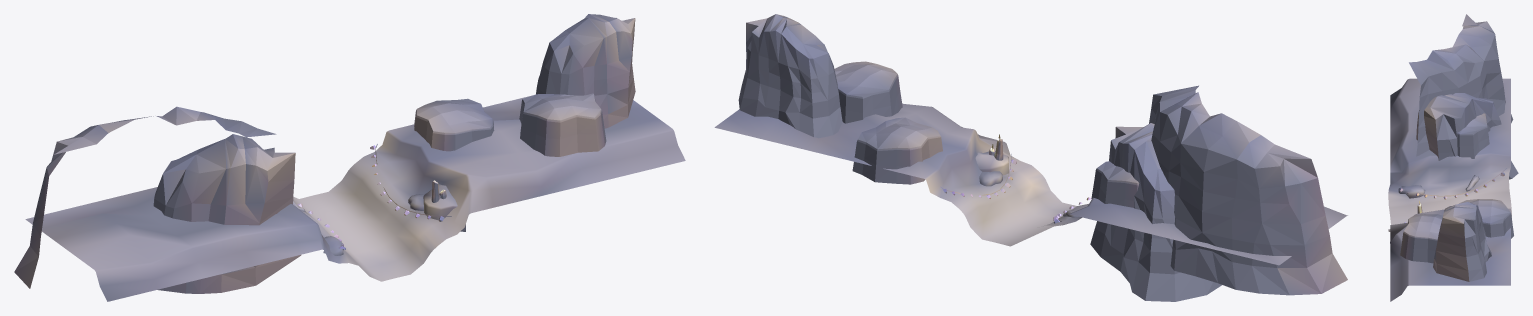
The model's file is Arctic_Luge_Straight_A.glb.
3 renders of one model, left to right at view 1: azimuth 30°, elevation 25°; view 2: azimuth 150°, elevation 25°; view 3: azimuth 270°, elevation 25°, orthographic. The views are drawn at different scales.
Visible parts, largest first — view 1: Arctic_Luge_Straight_A, Arctic_Luge_LargeIceRock_prop, Arctic_Luge_LargeIceRock_prop (1), Arctic_Luge_SmallIceRock_prop (2), Arctic_Luge_IceWall_prop, Arctic_Luge_SmallIceRock_prop (1); view 2: Arctic_Luge_IceWall_prop, Arctic_Luge_Straight_A, Arctic_Luge_LargeIceRock_prop (1), Arctic_Luge_LargeIceRock_prop, Arctic_Luge_SmallIceRock_prop (1), Arctic_Luge_SmallIceRock_prop (2), Arctic_Luge_SmallIceRock_prop; view 3: Arctic_Luge_Straight_A, Arctic_Luge_IceWall_prop, Arctic_Luge_LargeIceRock_prop (1), Arctic_Luge_LargeIceRock_prop, Arctic_Luge_SmallIceRock_prop (2), Arctic_Luge_SmallIceRock_prop (1), Arctic_Luge_SmallIceRock_prop, Arctic_StringLights_holiday (1).
Part boxes in pixels (left/top/right/bottom): Arctic_Luge_Straight_A: left=25, top=95, right=685, bottom=301; Arctic_Luge_LargeIceRock_prop: left=153, top=134, right=301, bottom=293; Arctic_Luge_LargeIceRock_prop (1): left=536, top=14, right=635, bottom=128; Arctic_Luge_SmallIceRock_prop (2): left=519, top=93, right=606, bottom=156; Arctic_Luge_IceWall_prop: left=14, top=106, right=276, bottom=288; Arctic_Luge_SmallIceRock_prop (1): left=414, top=98, right=494, bottom=151; Arctic_Luge_IceWall_prop: left=1149, top=85, right=1347, bottom=295; Arctic_Luge_Straight_A: left=714, top=103, right=1347, bottom=265; Arctic_Luge_LargeIceRock_prop (1): left=738, top=14, right=842, bottom=138; Arctic_Luge_LargeIceRock_prop: left=1090, top=123, right=1221, bottom=301; Arctic_Luge_SmallIceRock_prop (1): left=852, top=117, right=942, bottom=184; Arctic_Luge_SmallIceRock_prop (2): left=834, top=61, right=902, bottom=123; Arctic_Luge_SmallIceRock_prop: left=1091, top=161, right=1139, bottom=207; Arctic_Luge_Straight_A: left=1388, top=78, right=1511, bottom=301; Arctic_Luge_IceWall_prop: left=1409, top=14, right=1513, bottom=156; Arctic_Luge_LargeIceRock_prop (1): left=1433, top=202, right=1491, bottom=281; Arctic_Luge_LargeIceRock_prop: left=1416, top=93, right=1518, bottom=179; Arctic_Luge_SmallIceRock_prop (2): left=1400, top=214, right=1442, bottom=263; Arctic_Luge_SmallIceRock_prop (1): left=1459, top=199, right=1513, bottom=238; Arctic_Luge_SmallIceRock_prop: left=1457, top=113, right=1489, bottom=158; Arctic_StringLights_holiday (1): left=1399, top=168, right=1506, bottom=199.
Bounding box in the file's own units: 27.6 × 7.56 × 6.92.
